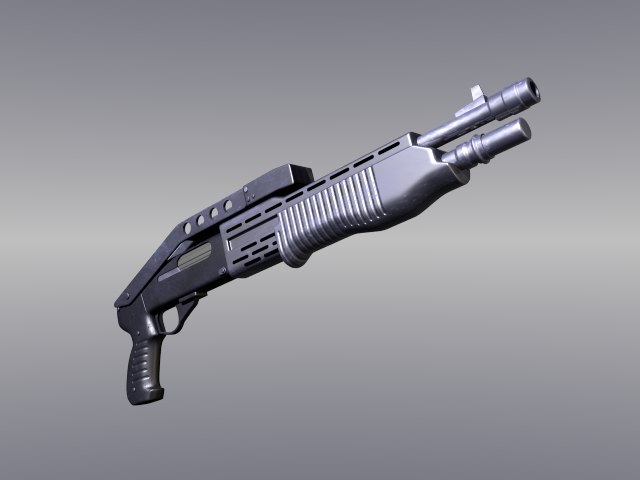weapon: (116, 75, 543, 406)
